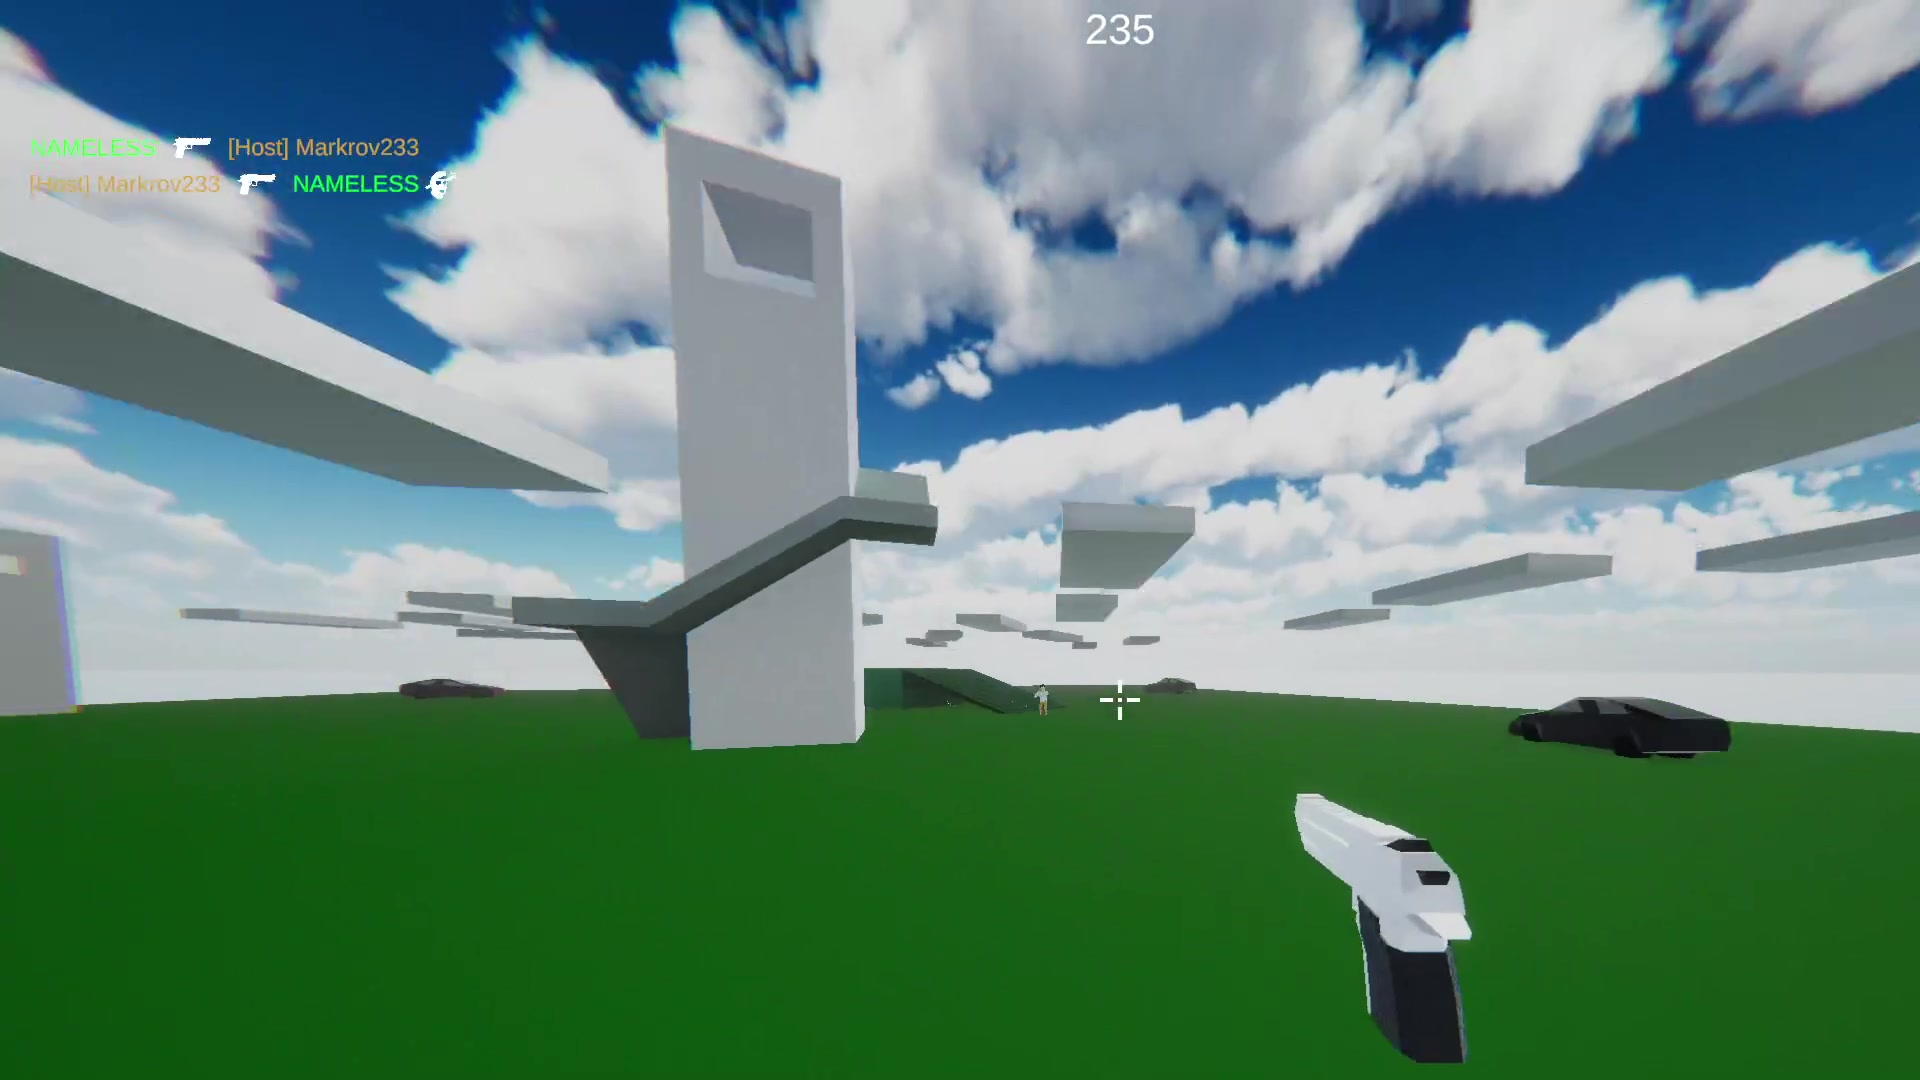human: (1034, 679, 1053, 718)
